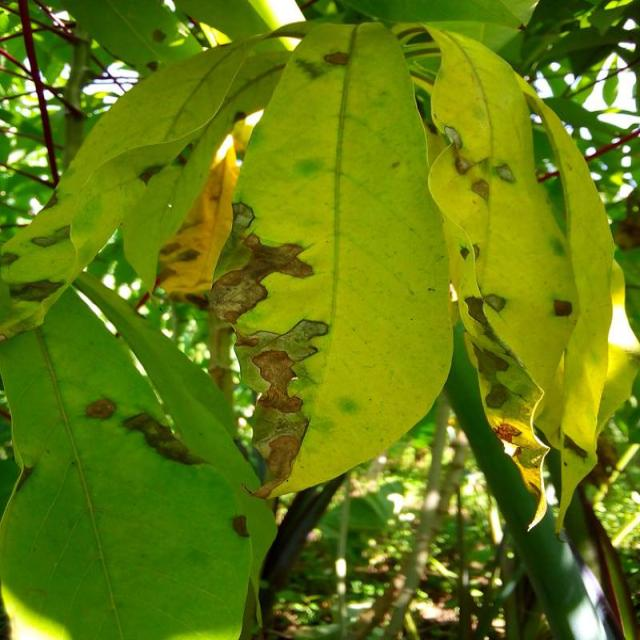cassava leaf: (209, 19, 455, 500), (2, 274, 278, 638), (426, 22, 620, 534)
